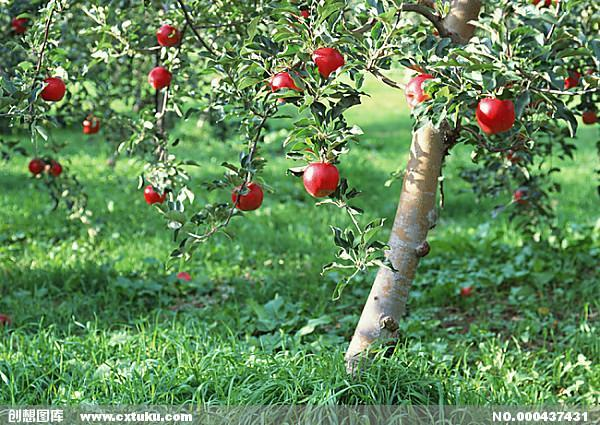apple: (476, 98, 515, 134), (303, 162, 339, 197), (312, 47, 345, 79), (231, 182, 263, 210), (270, 71, 302, 93), (38, 77, 65, 101), (156, 23, 181, 46), (143, 184, 168, 205)
